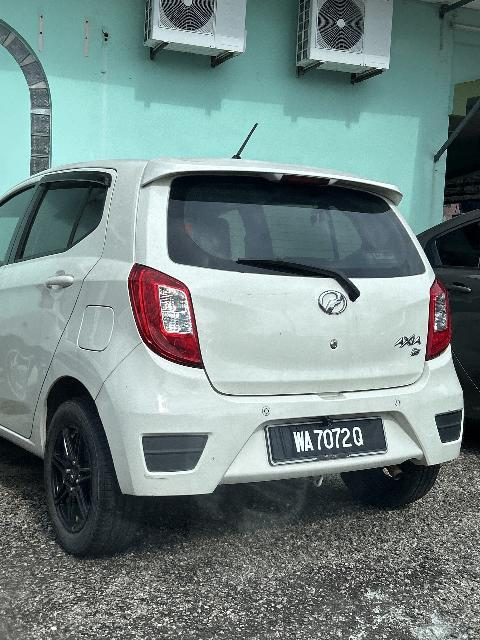License_Plate: (266, 419, 391, 468)
WA7072Q: (266, 419, 391, 468)
car: (5, 159, 480, 562)
